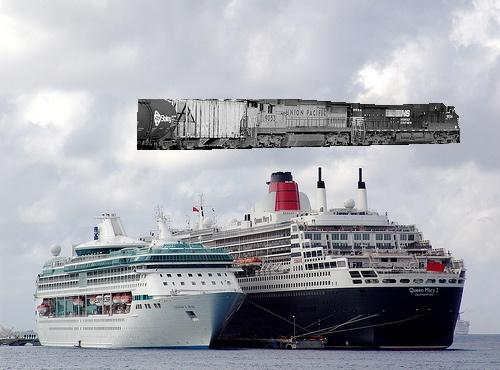tampered: (138, 100, 460, 150)
